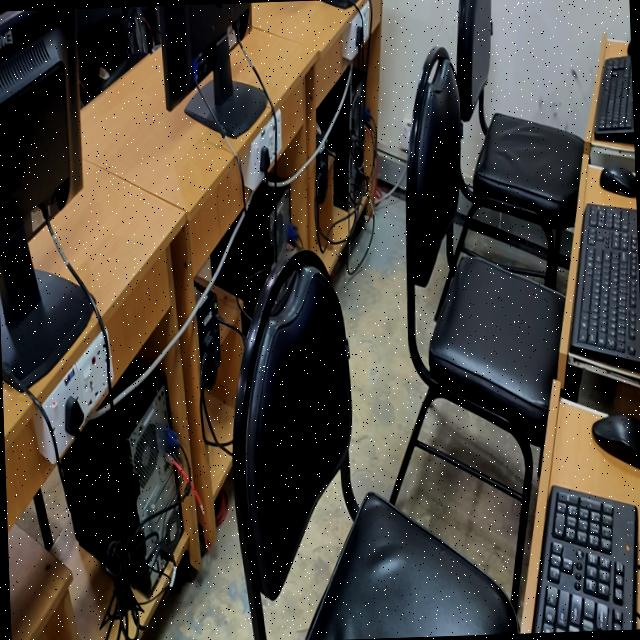Chair: (232, 250, 518, 640), (390, 47, 564, 608), (447, 0, 583, 288)
Cpu: (61, 358, 183, 593), (214, 182, 289, 334), (316, 68, 365, 208), (211, 219, 238, 273)
Keyboard: (532, 486, 636, 633), (570, 204, 640, 369), (593, 54, 634, 142)
Monitor: (0, 8, 94, 401), (159, 2, 267, 137)
Mouse: (592, 414, 640, 469), (600, 167, 636, 196), (628, 40, 631, 54)
